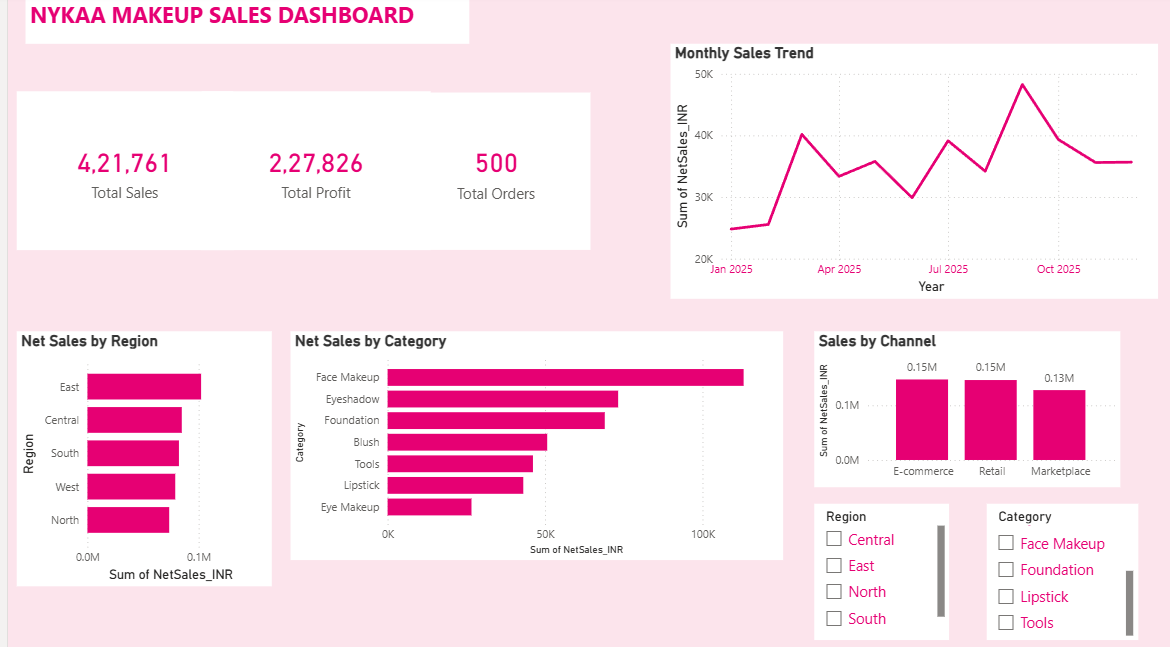

The page's visual inventory and layout, read from the dashboard file:
{"tool":"powerbi","page":{"name":"Nykaa Makeup Sales","canvas":[1280,720],"ordinal":0},"visuals":[{"type":"card","fields":{"Values":["nykaa_inspired_makeup_sales_sample.Total Sales"]},"box":[9.6,105.7,237.4,174.3],"z":0},{"type":"card","fields":{"Values":["nykaa_inspired_makeup_sales_sample.Total Profit"]},"box":[212.7,105.7,251.1,174.3],"z":1000},{"type":"lineChart","title":"Monthly Sales Trend","fields":{"Y":["Sum(nykaa_inspired_makeup_sales_sample.NetSales_INR)"],"Category":["nykaa_inspired_makeup_sales_sample.OrderDate.Variation.Date Hierarchy.Year","nykaa_inspired_makeup_sales_sample.OrderDate.Variation.Date Hierarchy.Quarter","nykaa_inspired_makeup_sales_sample.OrderDate.Variation.Date Hierarchy.Month"]},"box":[727.3,53.5,535.2,279.9],"z":2000},{"type":"clusteredBarChart","title":"Net Sales by Region","fields":{"Category":["nykaa_inspired_makeup_sales_sample.Region"],"Y":["Sum(nykaa_inspired_makeup_sales_sample.NetSales_INR)"]},"box":[9.6,369.1,279.9,279.9],"z":3000},{"type":"clusteredBarChart","title":"Net Sales by Category","fields":{"Category":["nykaa_inspired_makeup_sales_sample.Category"],"Y":["Sum(nykaa_inspired_makeup_sales_sample.NetSales_INR)"]},"box":[310.1,369.1,540.7,251.1],"z":4000},{"type":"card","fields":{"Values":["nykaa_inspired_makeup_sales_sample.Total Orders"]},"box":[432.2,107,207.2,172.9],"z":5000},{"type":"clusteredColumnChart","title":"Sales by Channel","fields":{"Category":["nykaa_inspired_makeup_sales_sample.SalesChannel"],"Y":["Sum(nykaa_inspired_makeup_sales_sample.NetSales_INR)"]},"box":[885.1,369.1,336.2,171.5],"z":6000},{"type":"textbox","box":[19.2,0,487.1,53.5],"z":7000},{"type":"slicer","fields":{"Values":["nykaa_inspired_makeup_sales_sample.Region"]},"box":[885.1,558.5,148.2,149.6],"z":7001},{"type":"slicer","fields":{"Values":["nykaa_inspired_makeup_sales_sample.Category"]},"box":[1074.4,558.5,166,149.6],"z":7002}]}

Visuals, with their boxes in screenshot pixels (x1, y1, x2, y2), scaled from the page's 1280x720 canvas onto the 1170x647 screenshot:
card - nykaa_inspired_makeup_sales_sample.Total Sales: Rect(9, 95, 226, 252)
card - nykaa_inspired_makeup_sales_sample.Total Profit: Rect(194, 95, 424, 252)
"Monthly Sales Trend" lineChart: Rect(665, 48, 1154, 300)
"Net Sales by Region" clusteredBarChart: Rect(9, 332, 265, 583)
"Net Sales by Category" clusteredBarChart: Rect(283, 332, 778, 557)
card - nykaa_inspired_makeup_sales_sample.Total Orders: Rect(395, 96, 584, 252)
"Sales by Channel" clusteredColumnChart: Rect(809, 332, 1116, 486)
textbox: Rect(18, 0, 463, 48)
slicer - nykaa_inspired_makeup_sales_sample.Region: Rect(809, 502, 945, 636)
slicer - nykaa_inspired_makeup_sales_sample.Category: Rect(982, 502, 1134, 636)
